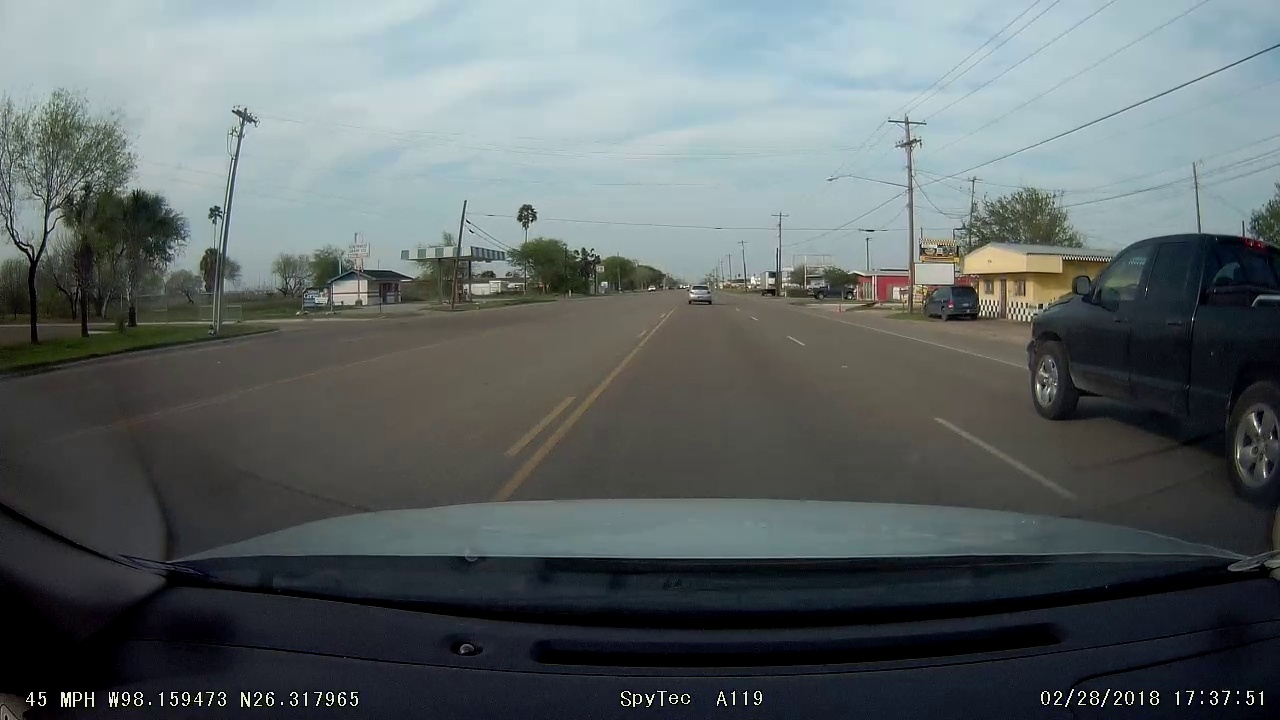blurredLine: (918, 409, 1087, 506)
